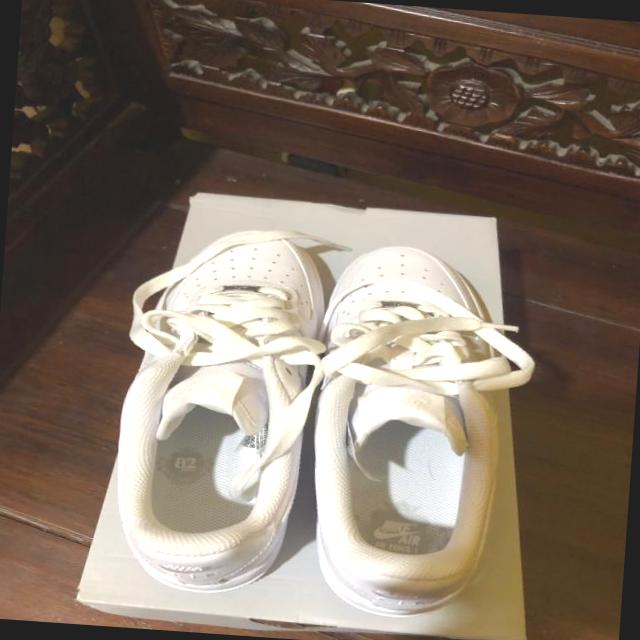nike_original_airforce: (299, 242, 536, 624), (109, 221, 332, 597)
